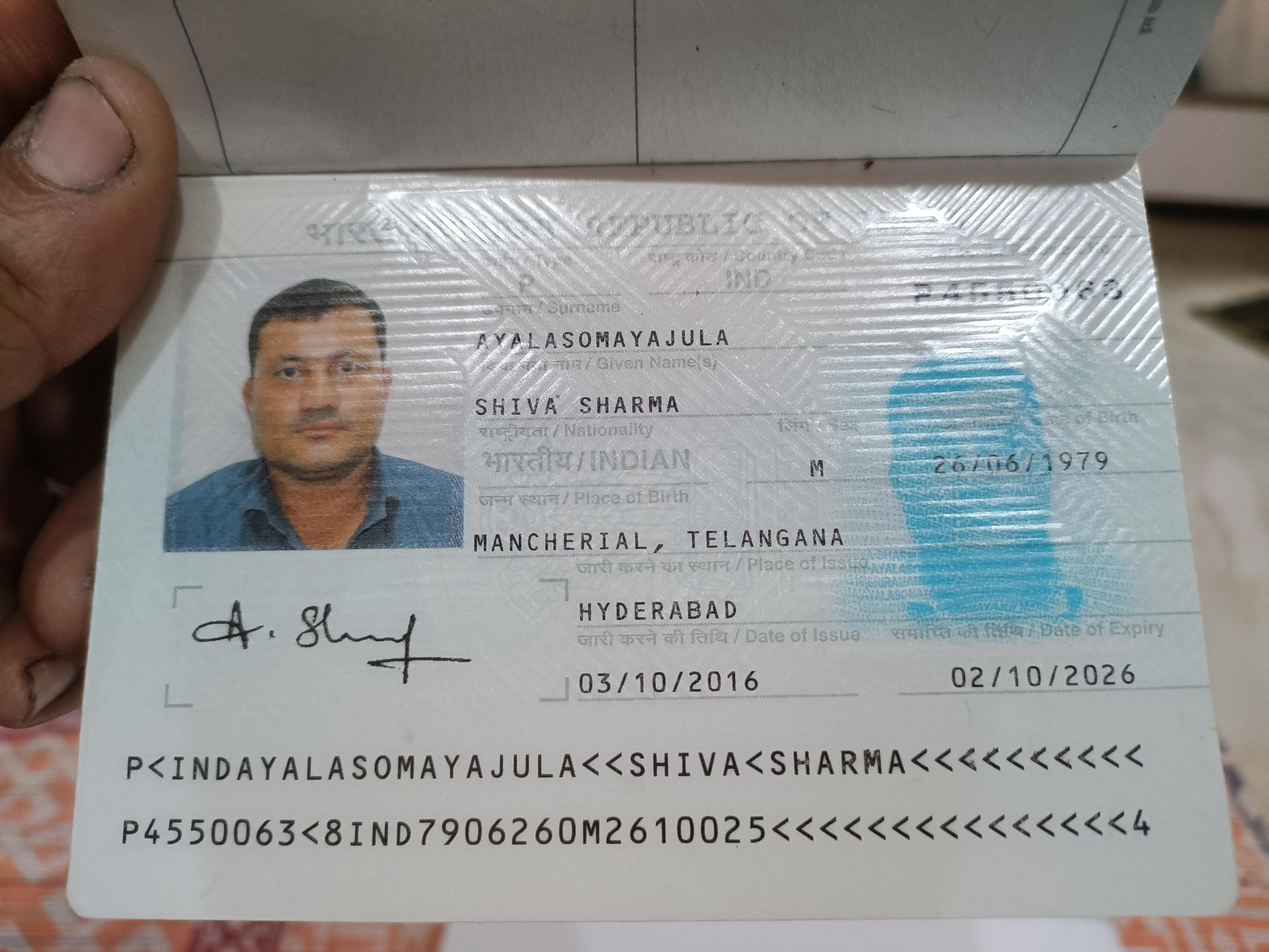DOB: (924, 435, 1118, 488)
Surname: (471, 325, 741, 355)
country_code: (716, 262, 778, 298)
date_of_expiry: (933, 645, 1147, 707)
date_of_issue: (567, 657, 770, 710)
details: (110, 727, 1167, 862)
name: (467, 384, 692, 420)
nationality: (480, 445, 725, 479)
passport_no: (906, 273, 1133, 310)
photo: (184, 270, 465, 560)
place_of_birth: (471, 523, 847, 556)
place_of_issue: (558, 583, 756, 631)
sex: (790, 446, 841, 490)
sign: (189, 586, 467, 705)
type: (508, 268, 545, 308)
